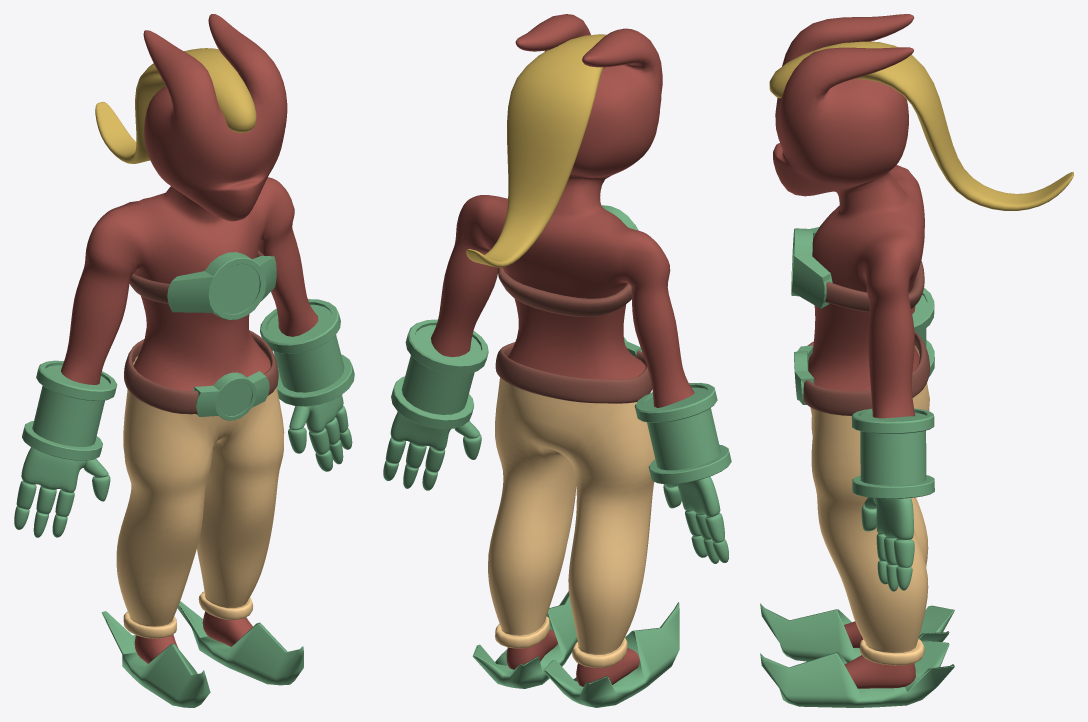
File: MainCharacter.fbx
The picture shows the model from 3 angles, left to right: view 1: azimuth 30°, elevation 25°; view 2: azimuth 150°, elevation 25°; view 3: azimuth 270°, elevation 25°; orthographic projection. The views are drawn at different scales.
Parts seen in each view (by area): view 1: mainMesh; view 2: mainMesh; view 3: mainMesh.
Boxes of the visible parts, x1,y1,x2,y2 form: mainMesh: [14, 14, 354, 707]; mainMesh: [383, 14, 731, 707]; mainMesh: [760, 14, 1073, 707].
Bounding box in the file's own units: 101 × 181 × 79.67.
